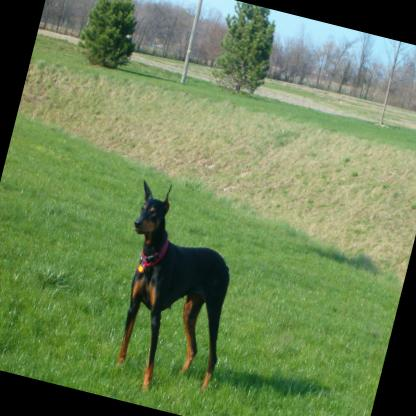Doberman: (93, 174, 259, 408)
